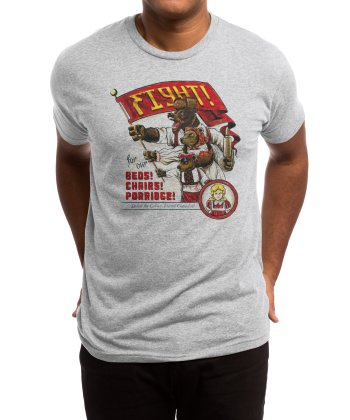design: (106, 76, 242, 222)
